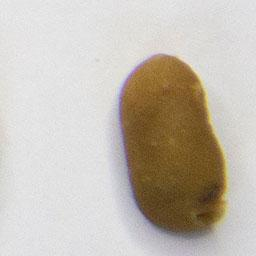defect: (116, 49, 232, 239)
